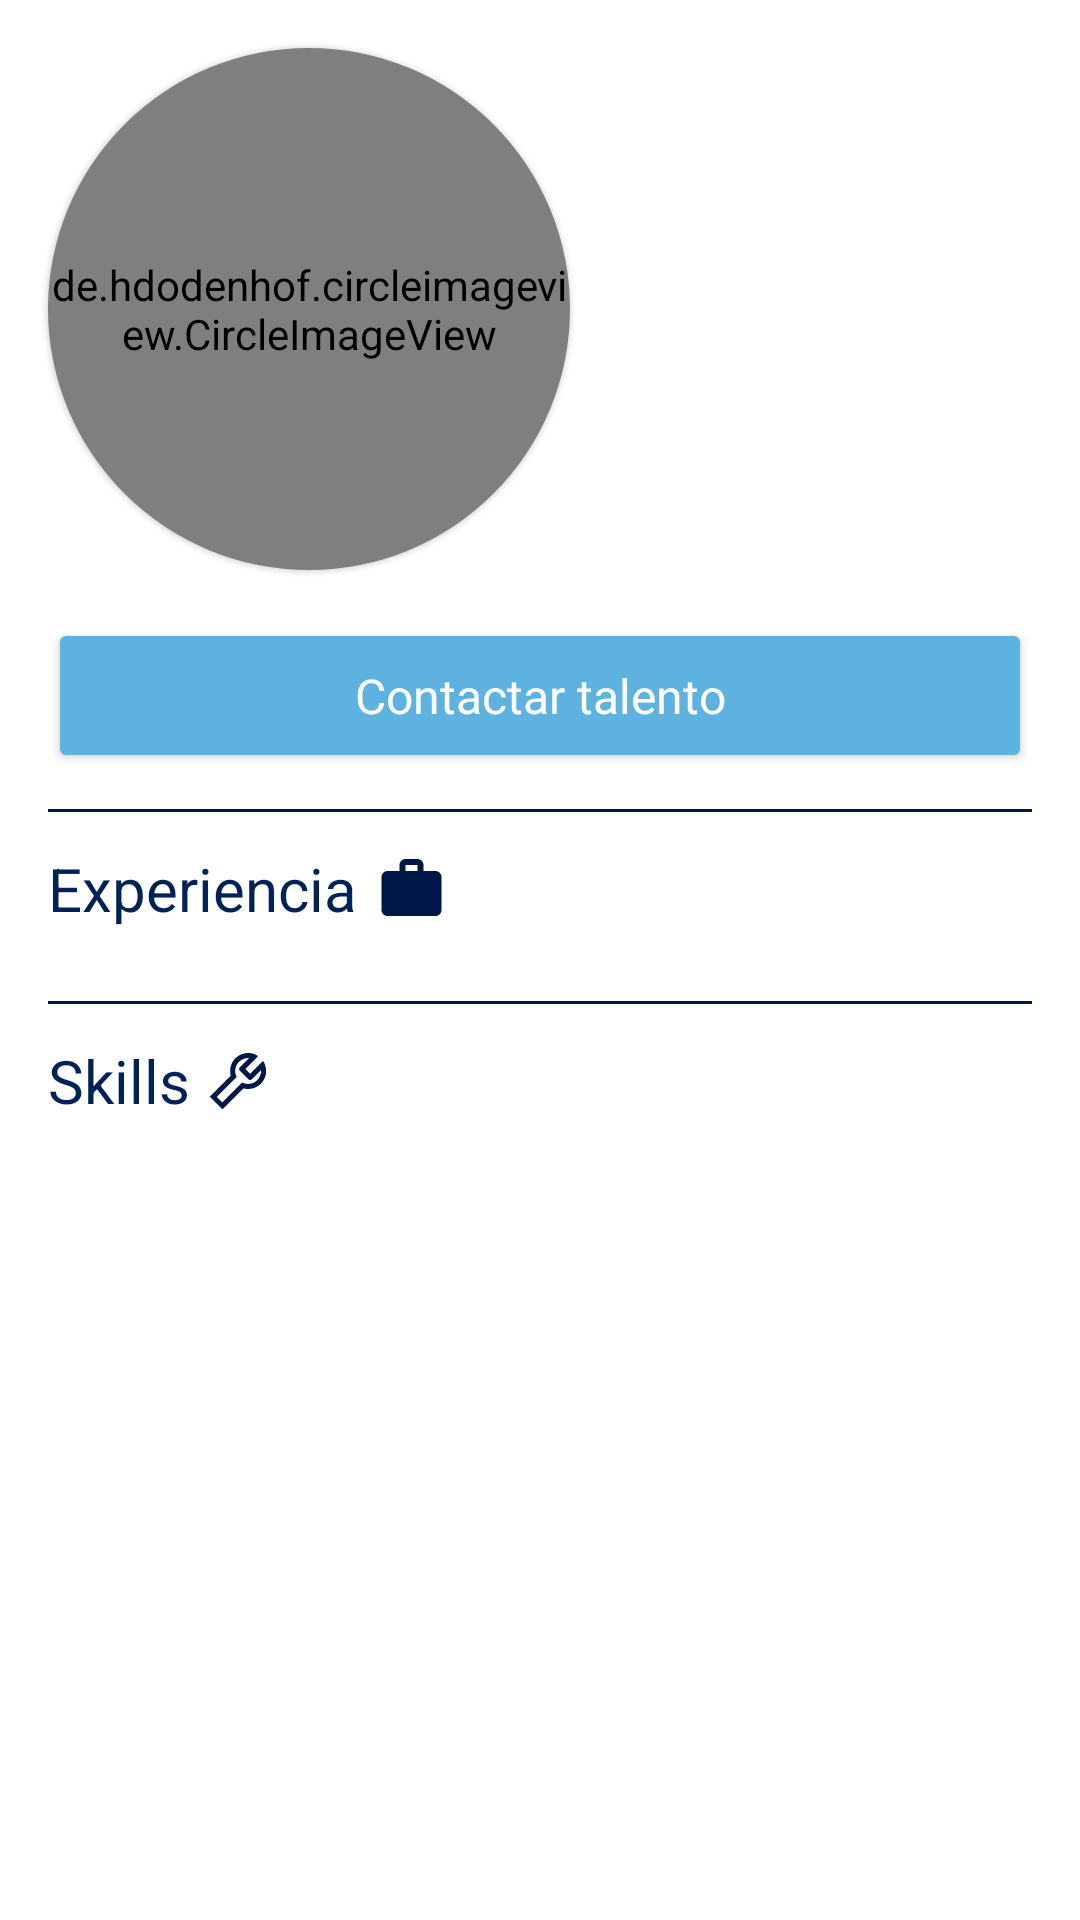

Locate icon controls on the screen. Image size 1080 x 1920, boxes as (x1, y1, x2, y2).
work: (381, 859, 442, 916)
